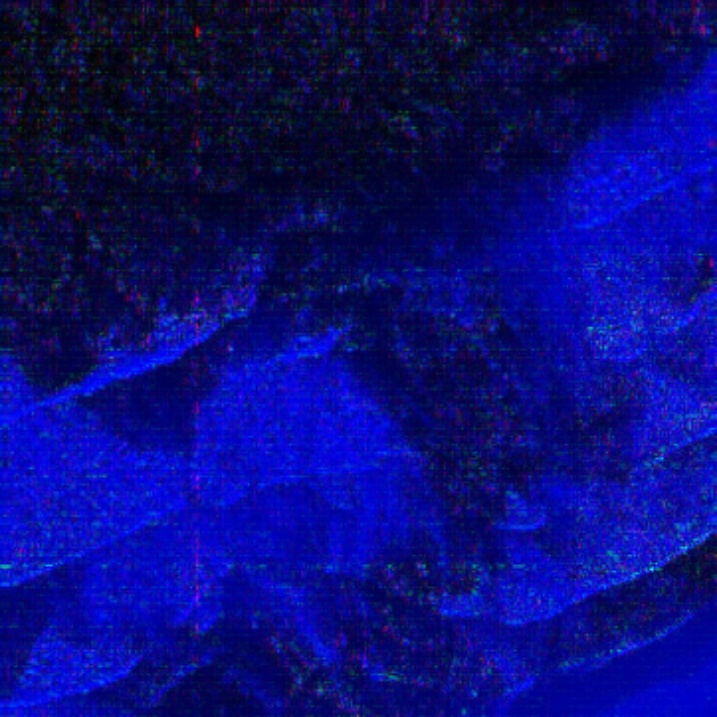rip_current: (249, 162, 570, 666)
